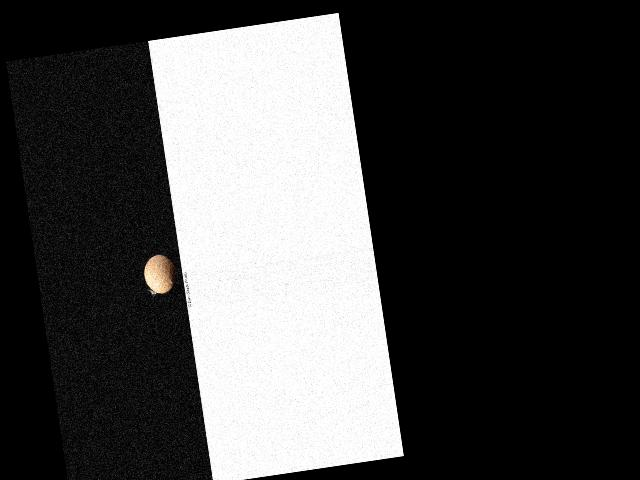egg: (142, 252, 178, 295)
